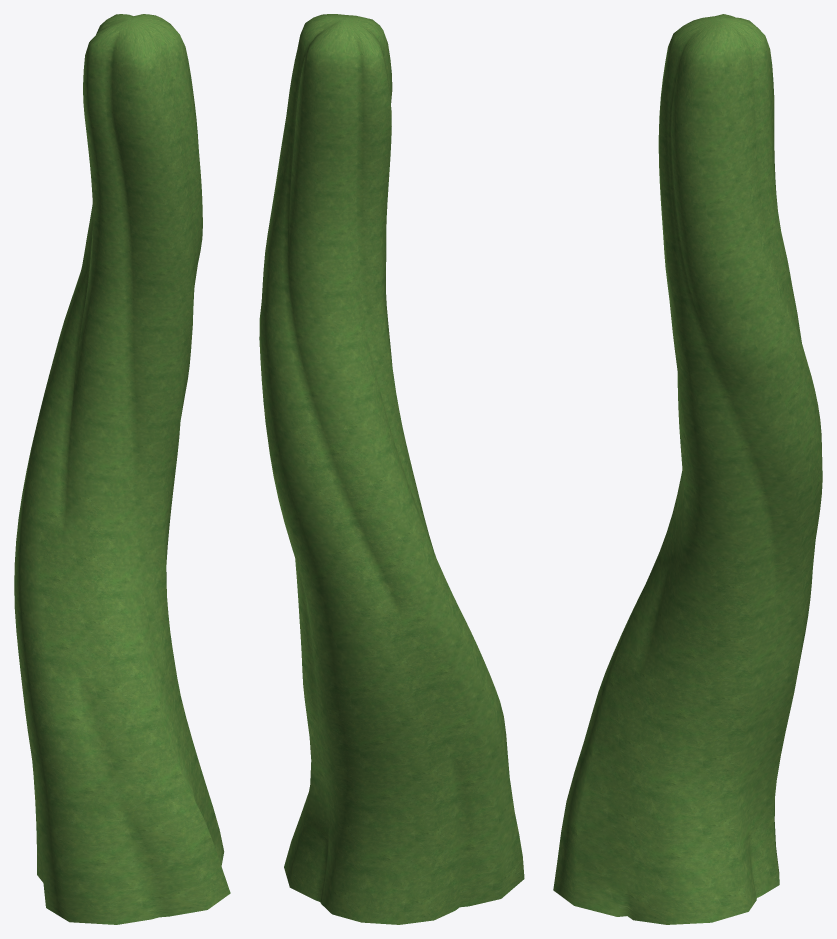
Rendered from SM_ENV_KNFRST_MiddleTree_F.FBX.
The picture shows the model from 3 angles, left to right: view 1: azimuth 30°, elevation 25°; view 2: azimuth 150°, elevation 25°; view 3: azimuth 270°, elevation 25°; orthographic projection. The views are drawn at different scales.
Parts seen in each view (by area): view 1: SM_ENV_KNFRST_MiddleTree_F; view 2: SM_ENV_KNFRST_MiddleTree_F; view 3: SM_ENV_KNFRST_MiddleTree_F.
Part boxes in pixels (bbox=[...]): SM_ENV_KNFRST_MiddleTree_F: bbox=[14, 14, 230, 924]; SM_ENV_KNFRST_MiddleTree_F: bbox=[259, 14, 524, 924]; SM_ENV_KNFRST_MiddleTree_F: bbox=[553, 14, 822, 924].
Size of the model in its own units: 1258 by 5386 by 1493.
